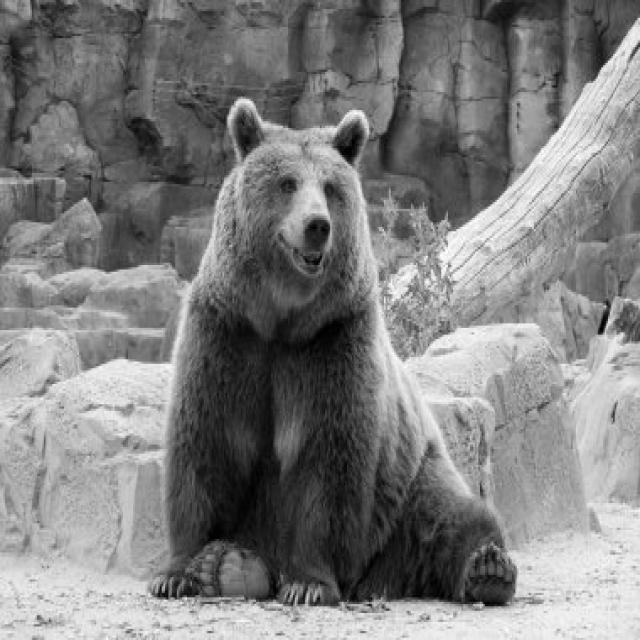Animal: (151, 100, 515, 603)
